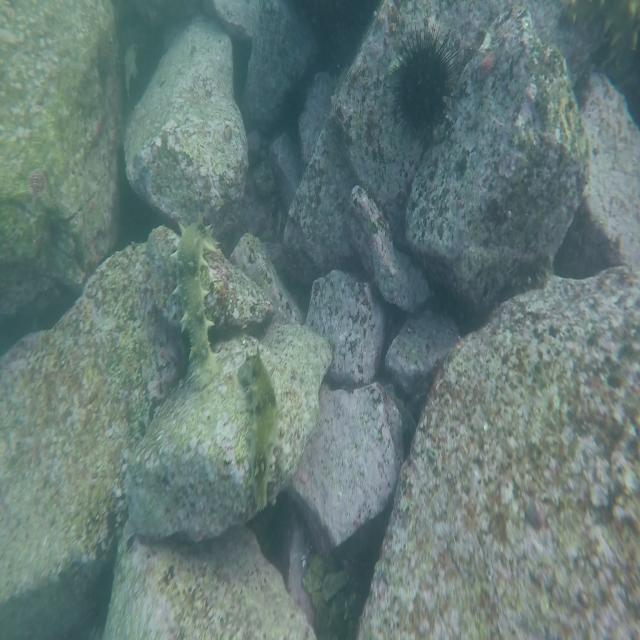echinus: (388, 22, 462, 142)
holothurian: (166, 213, 220, 380), (233, 351, 279, 515), (559, 0, 636, 76)
